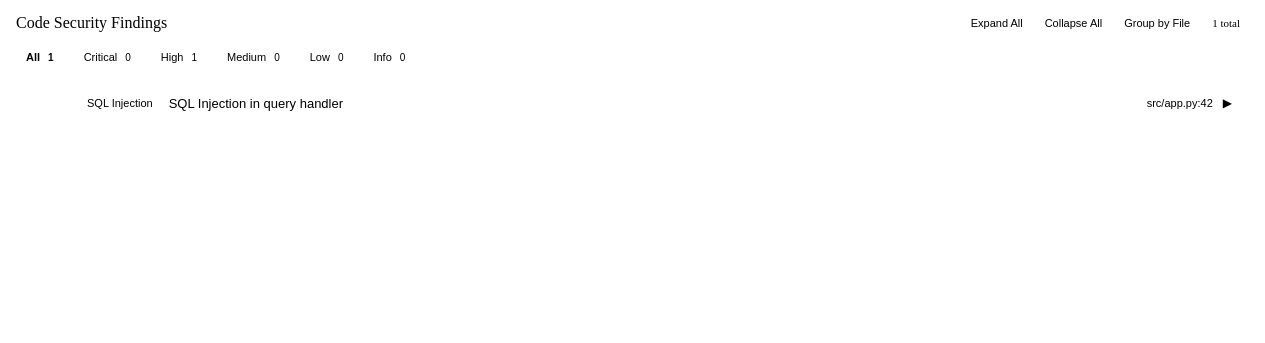
Scenario: CodeSecurityFindings › shows explanation section when explanation is non-empty
Click the text "SQL Injection in query handler": x=256, y=103 [169, 96, 343, 110]
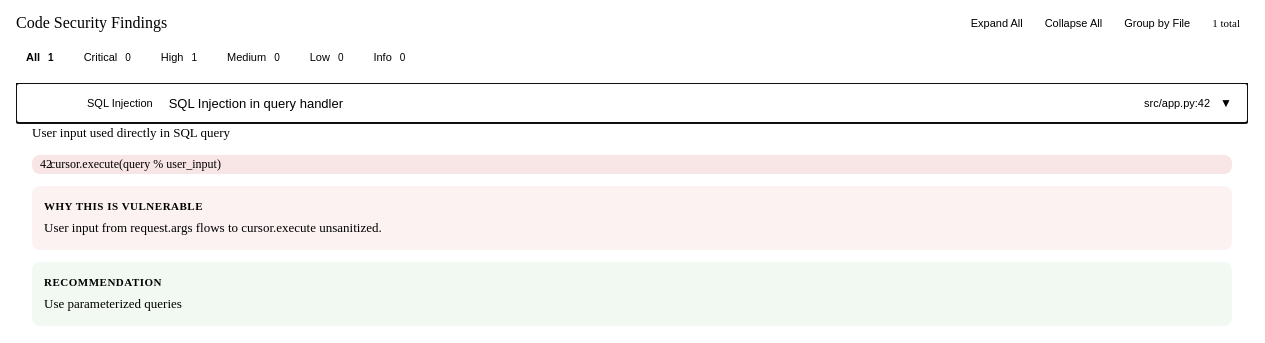
Expected: the text "Why This Is Vulnerable" is shown, [44, 200, 203, 212]
Expected: the text "User input from request.args flows to cursor.execute unsanitized." is shown, [44, 220, 382, 235]
